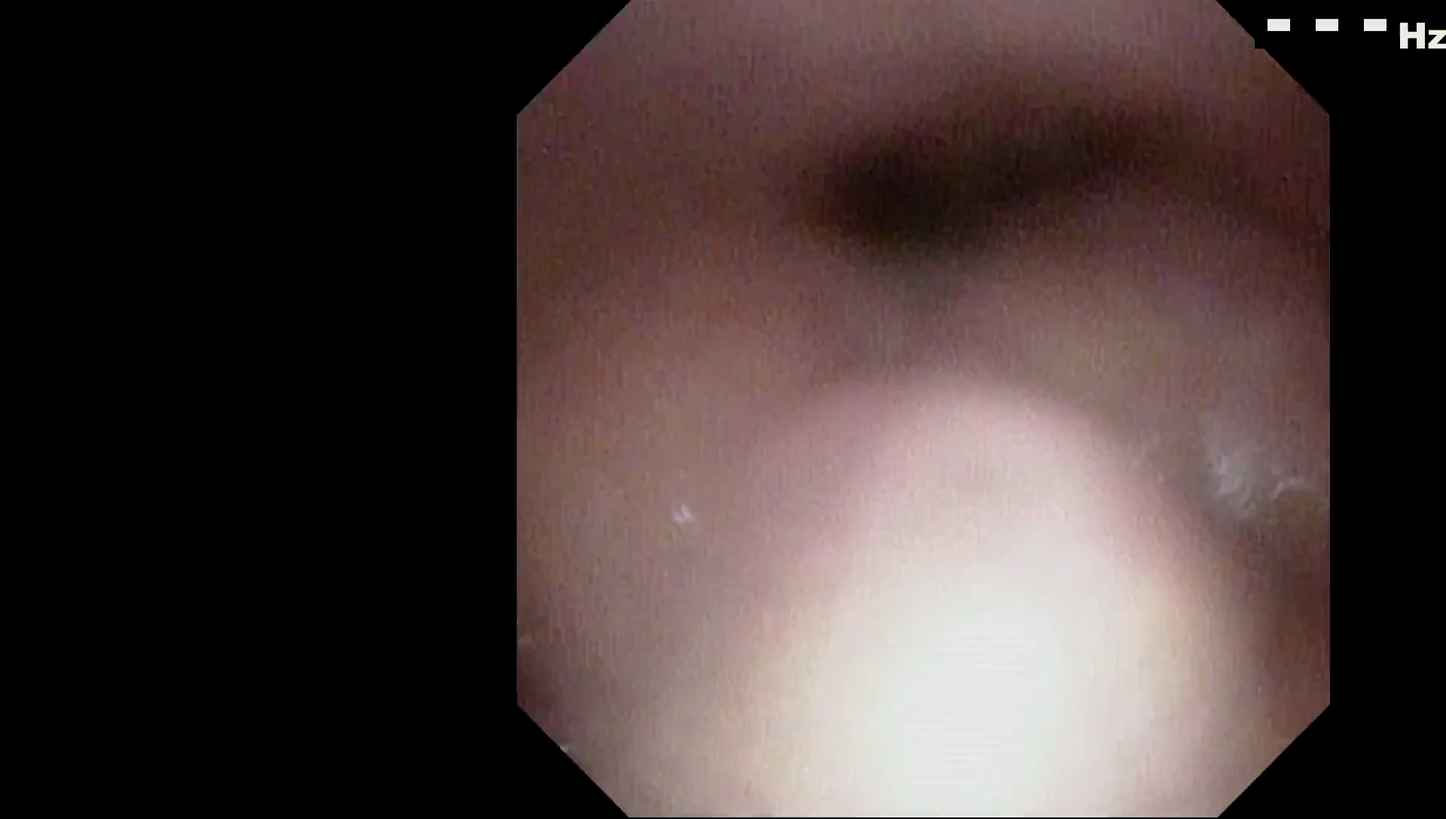close_wall: (591, 410, 1269, 819)
next: (783, 87, 1130, 296)
